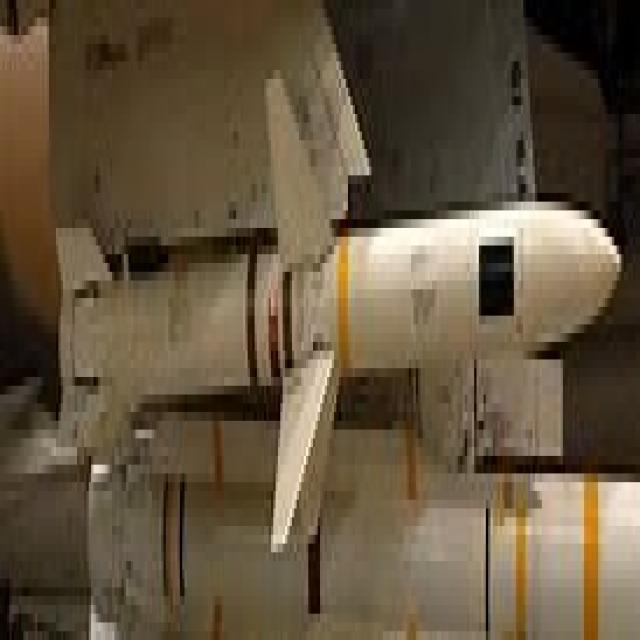missile: (56, 77, 614, 546)
